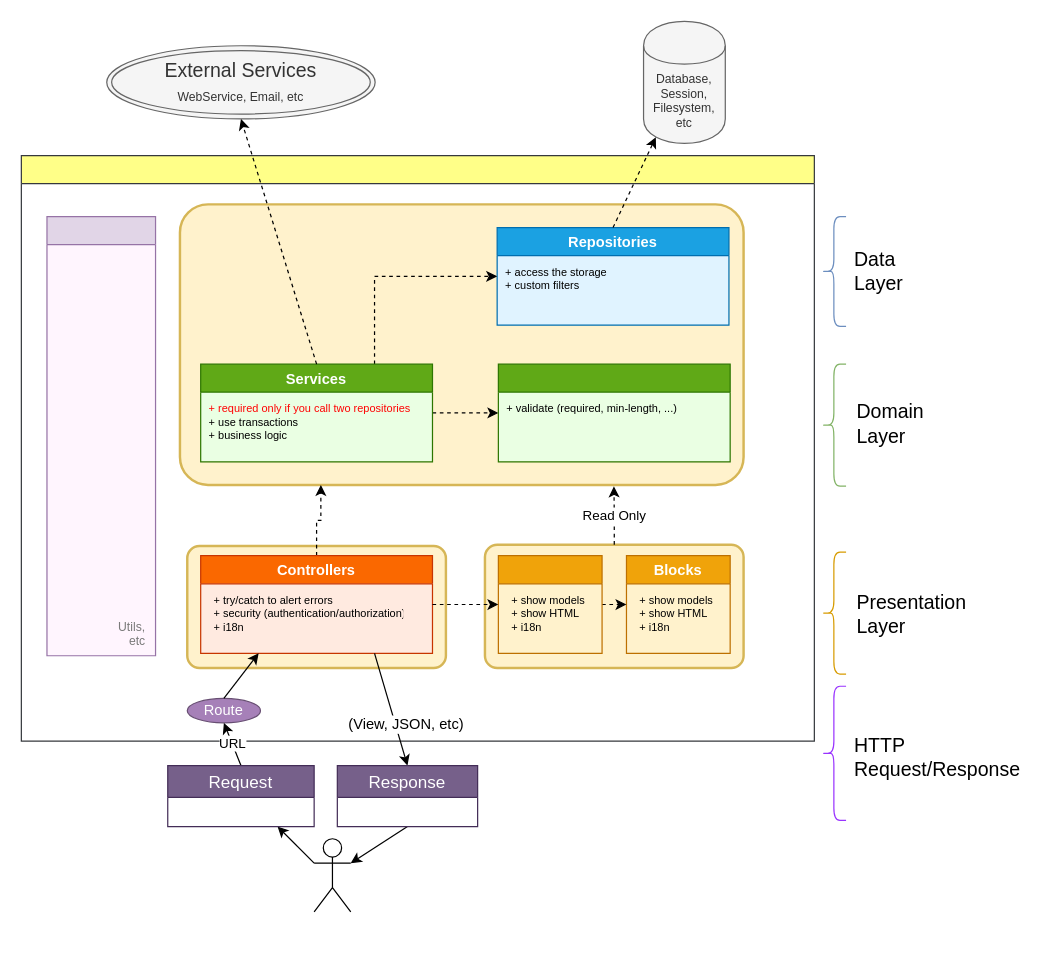
Some shapes in this 1042 by 959 pixel diagram are drawn without their labels. The shapes that lost their labels are listed below. From the top down, each one's box as (x1, y1, x2, y2) in pixels, then its label:
(497, 363, 730, 462): Models
(46, 215, 156, 656): Common
(20, 154, 814, 741): Application
(497, 554, 602, 653): Views
(313, 838, 351, 912): User
